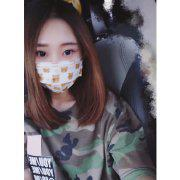OK: (30, 41, 83, 94)
